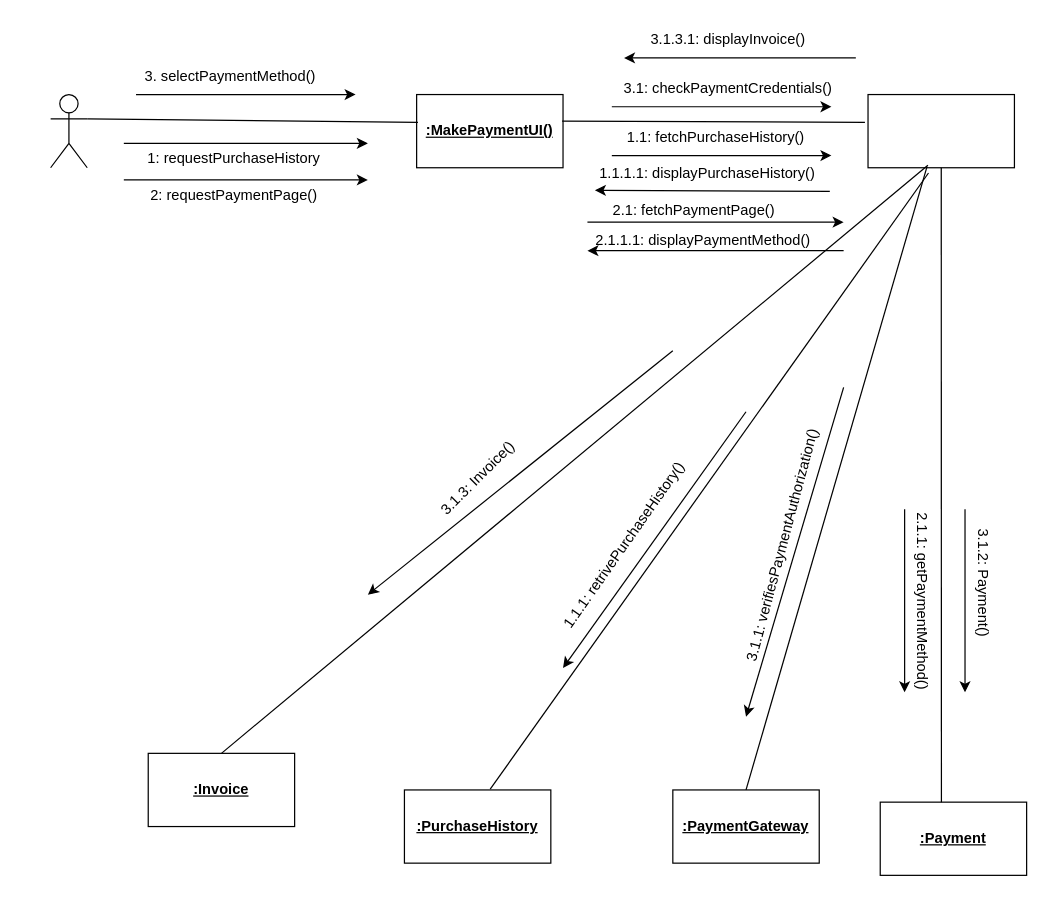
Some shapes in this 1048 by 897 pixel diagram are drawn without their labels. Each missing label, with the box of its shape:
:MakePayment(): (867, 93, 1014, 168)
Registerd user: (49, 93, 87, 168)
